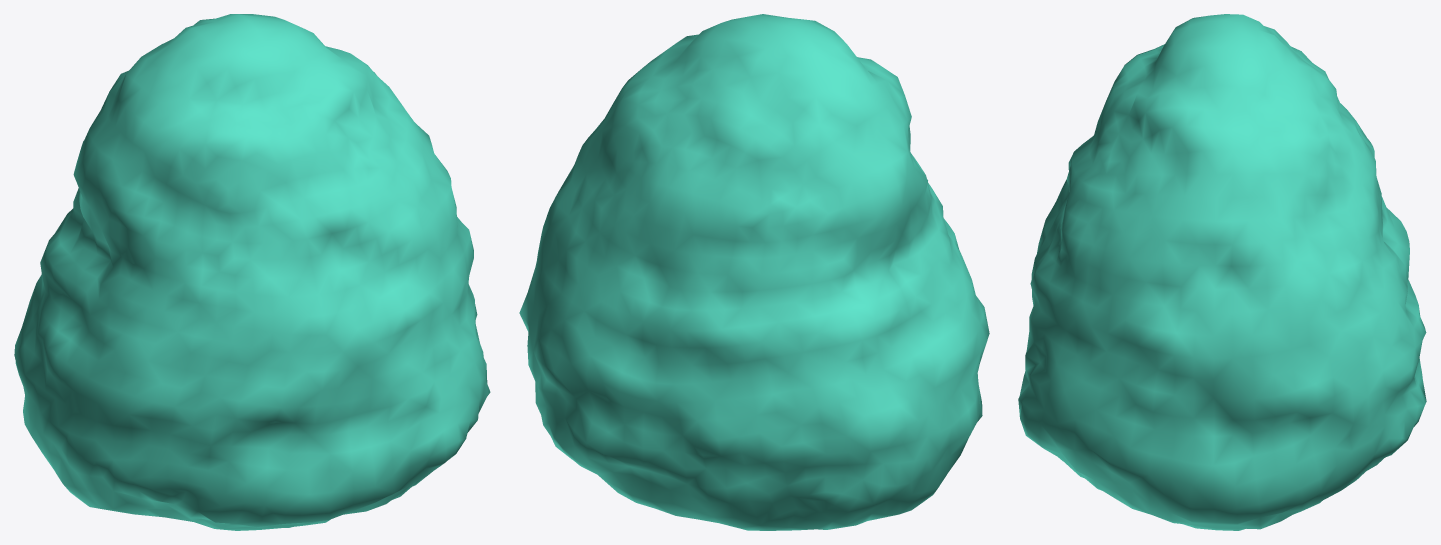
The picture shows the model from 3 angles, left to right: view 1: azimuth 30°, elevation 25°; view 2: azimuth 150°, elevation 25°; view 3: azimuth 270°, elevation 25°; orthographic projection. The views are drawn at different scales.
Visible parts, largest first — view 1: Sand_stone; view 2: Sand_stone; view 3: Sand_stone.
Part boxes in pixels (x1,y1,x2,y2): Sand_stone: [14, 14, 490, 530]; Sand_stone: [519, 14, 989, 530]; Sand_stone: [1018, 14, 1426, 530].
Size of the model in its own units: 738 by 847 by 698.
